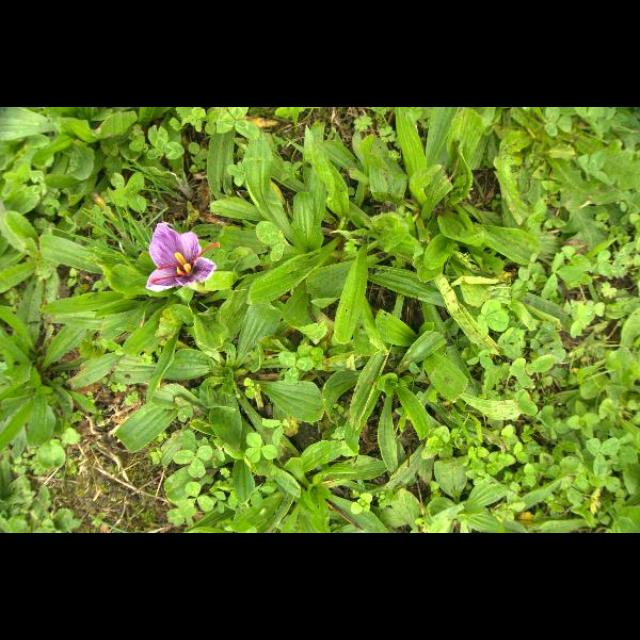flower: (146, 224, 220, 292)
